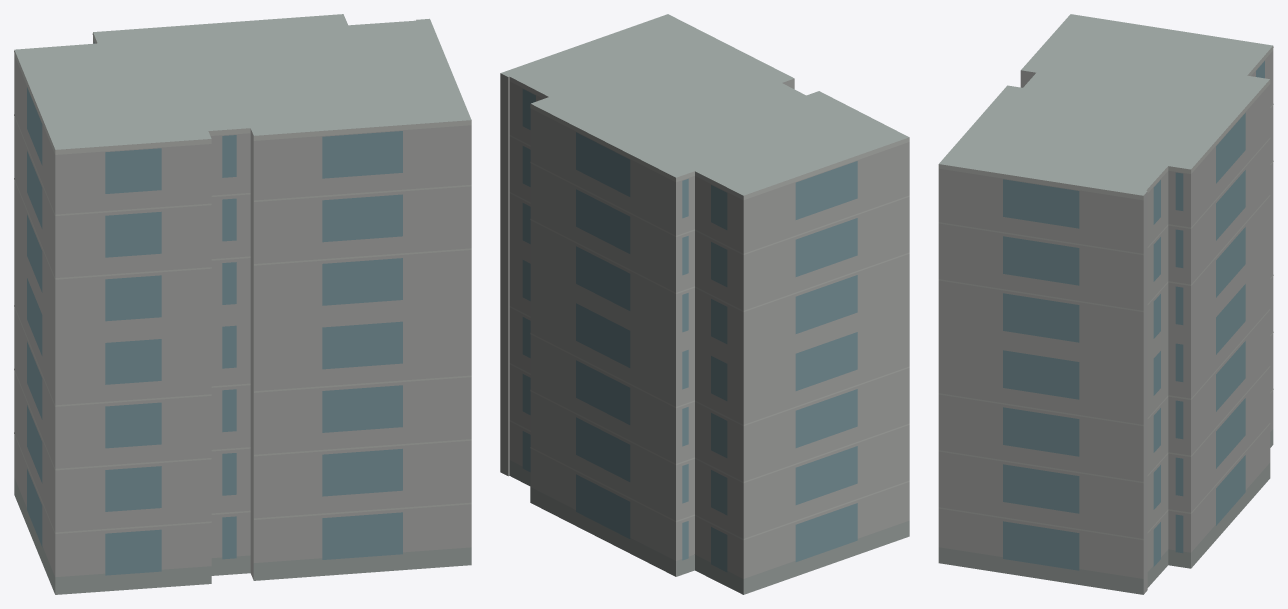
File: survey-upis-32629822.glb
3 views of the same model, side by side, from view 1: azimuth 30°, elevation 25°; view 2: azimuth 150°, elevation 25°; view 3: azimuth 270°, elevation 25° (orthographic). The views are drawn at different scales.
Parts seen in each view (by area): view 1: survey-upis-32629822.tmp; view 2: survey-upis-32629822.tmp; view 3: survey-upis-32629822.tmp.
Boxes of the visible parts, x1,y1,x2,y2 form: survey-upis-32629822.tmp: (14, 14, 471, 594); survey-upis-32629822.tmp: (500, 14, 909, 594); survey-upis-32629822.tmp: (938, 14, 1273, 594).
Size of the model in its own units: 20.73 by 21.2 by 16.13.
